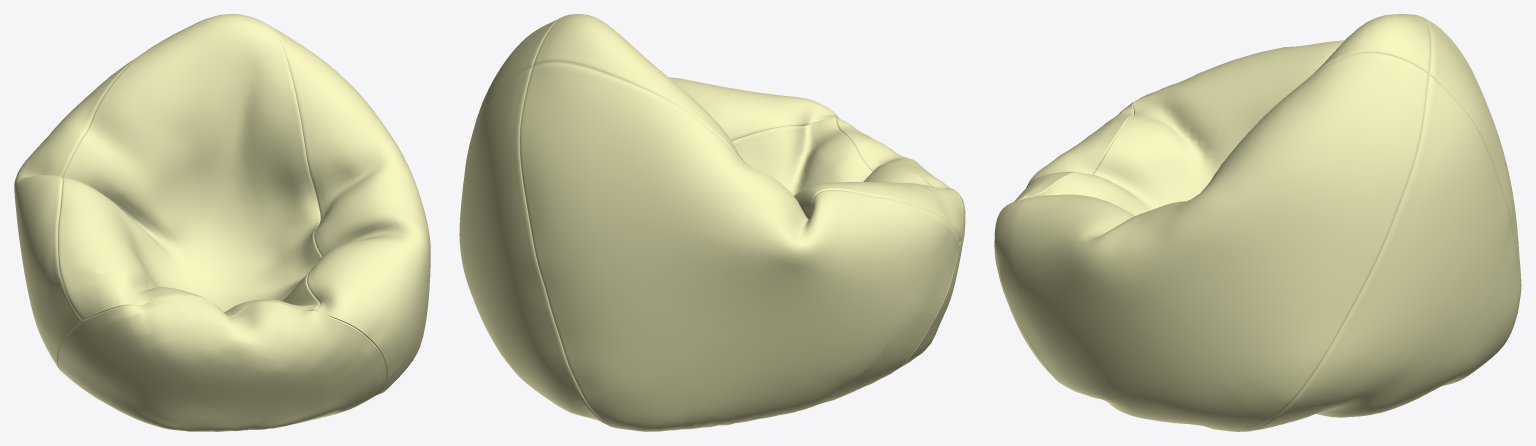
Rendered from bean_bag.glb.
The picture shows the model from 3 angles, left to right: view 1: azimuth 30°, elevation 25°; view 2: azimuth 150°, elevation 25°; view 3: azimuth 270°, elevation 25°; orthographic projection. The views are drawn at different scales.
Parts seen in each view (by area): view 1: bean_bag_chair_mesh_n3d; view 2: bean_bag_chair_mesh_n3d; view 3: bean_bag_chair_mesh_n3d.
Boxes of the visible parts, left/top/right/bottom form: bean_bag_chair_mesh_n3d: left=14, top=14, right=430, bottom=431; bean_bag_chair_mesh_n3d: left=459, top=14, right=965, bottom=431; bean_bag_chair_mesh_n3d: left=994, top=14, right=1521, bottom=431.
Size of the model in its own units: 1.22 by 0.9303 by 1.24.
